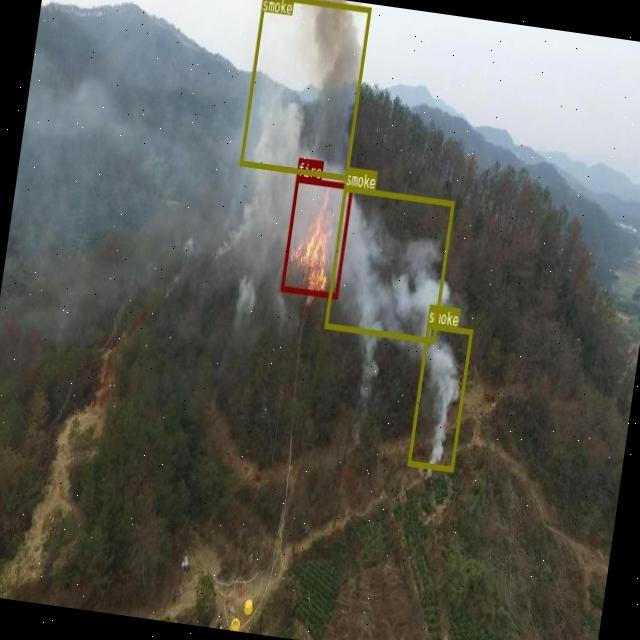fire: (280, 176, 353, 297)
smoke: (239, 0, 371, 179), (324, 185, 455, 342), (406, 323, 474, 472)
